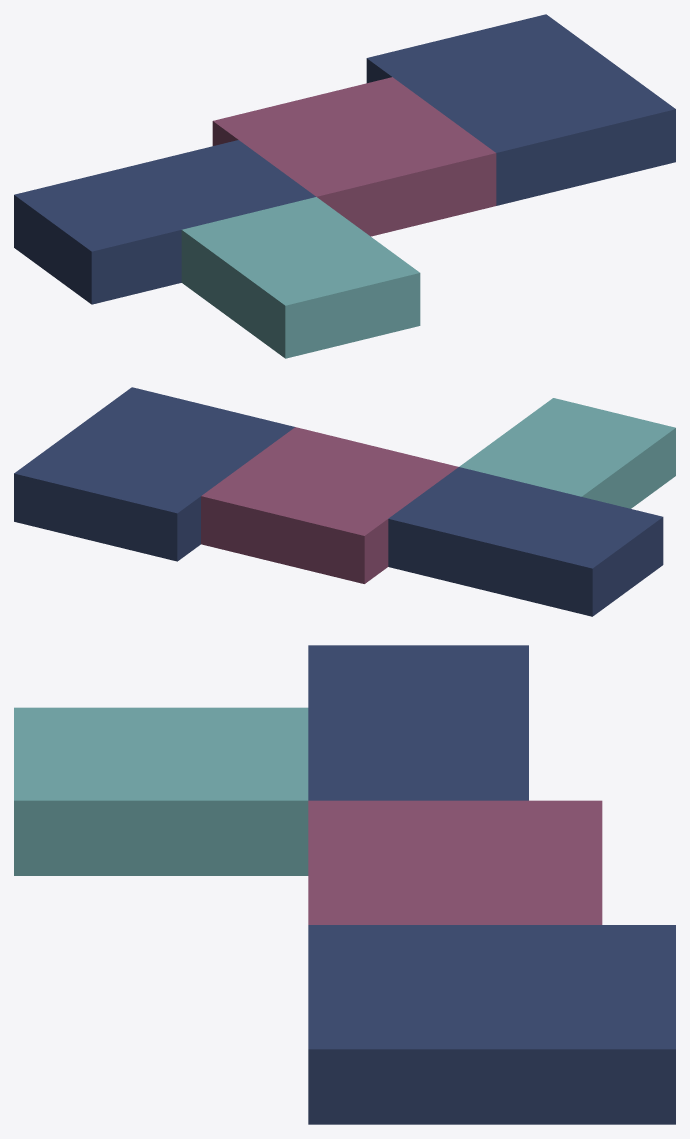
File: House_Pieces.fbx
3 views of the same model, one above another, from view 1: azimuth 30°, elevation 25°; view 2: azimuth 150°, elevation 25°; view 3: azimuth 270°, elevation 25° (orthographic). The views are drawn at different scales.
Visible parts, largest first — view 1: House20, House16, House12, House15; view 2: House20, House15, House16, House12; view 3: House20, House12, House16, House15.
Part boxes in pixels (left/top/right/bottom): House20: left=366, top=14, right=675, bottom=205; House16: left=212, top=77, right=496, bottom=236; House12: left=181, top=197, right=420, bottom=358; House15: left=14, top=140, right=315, bottom=304; House20: left=14, top=387, right=294, bottom=561; House15: left=388, top=467, right=663, bottom=616; House16: left=201, top=427, right=458, bottom=583; House12: left=459, top=398, right=675, bottom=508; House20: left=308, top=925, right=675, bottom=1124; House12: left=14, top=707, right=308, bottom=875; House16: left=308, top=800, right=602, bottom=924; House15: left=308, top=645, right=528, bottom=800.
Bounding box in the file's own units: 146 × 12.68 × 101.
